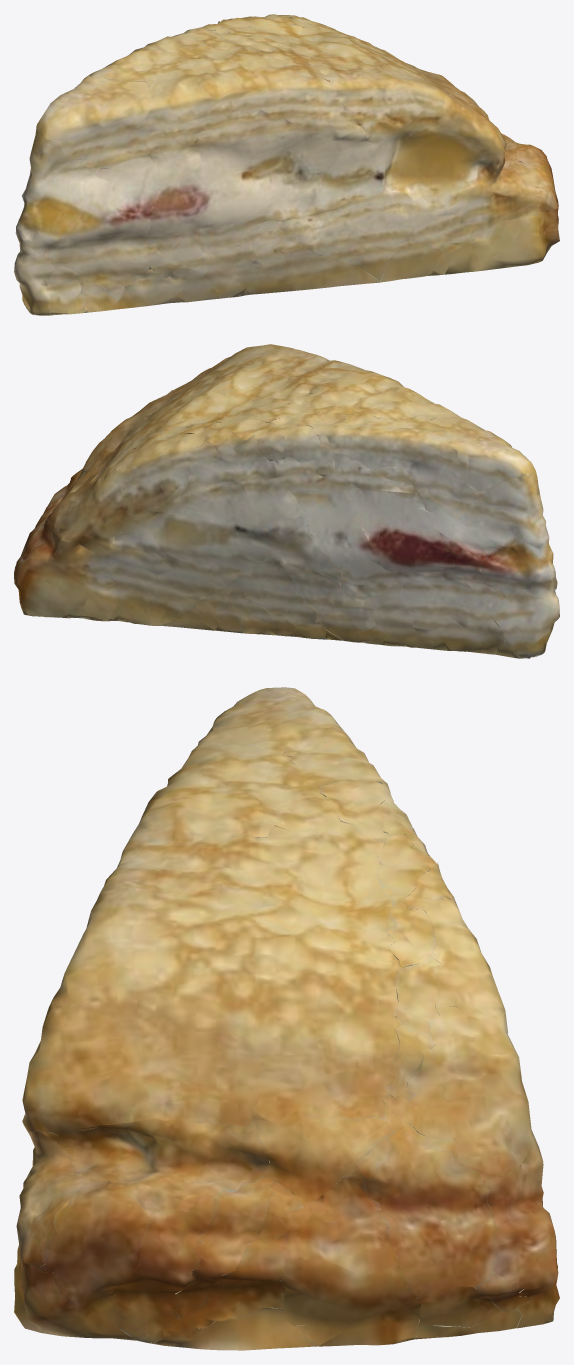
The picture shows the model from 3 angles, top to bottom: view 1: azimuth 30°, elevation 25°; view 2: azimuth 150°, elevation 25°; view 3: azimuth 270°, elevation 25°; orthographic projection. The views are drawn at different scales.
Parts seen in each view (by area): view 1: ObjectCapture_5; view 2: ObjectCapture_5; view 3: ObjectCapture_5.
Boxes of the visible parts, bbox=[...] form: ObjectCapture_5: bbox=[14, 14, 559, 315]; ObjectCapture_5: bbox=[14, 344, 559, 658]; ObjectCapture_5: bbox=[14, 687, 559, 1350].
Bounding box in the file's own units: 0.1166 × 0.0484 × 0.0695.
1 material, 1 textured.
